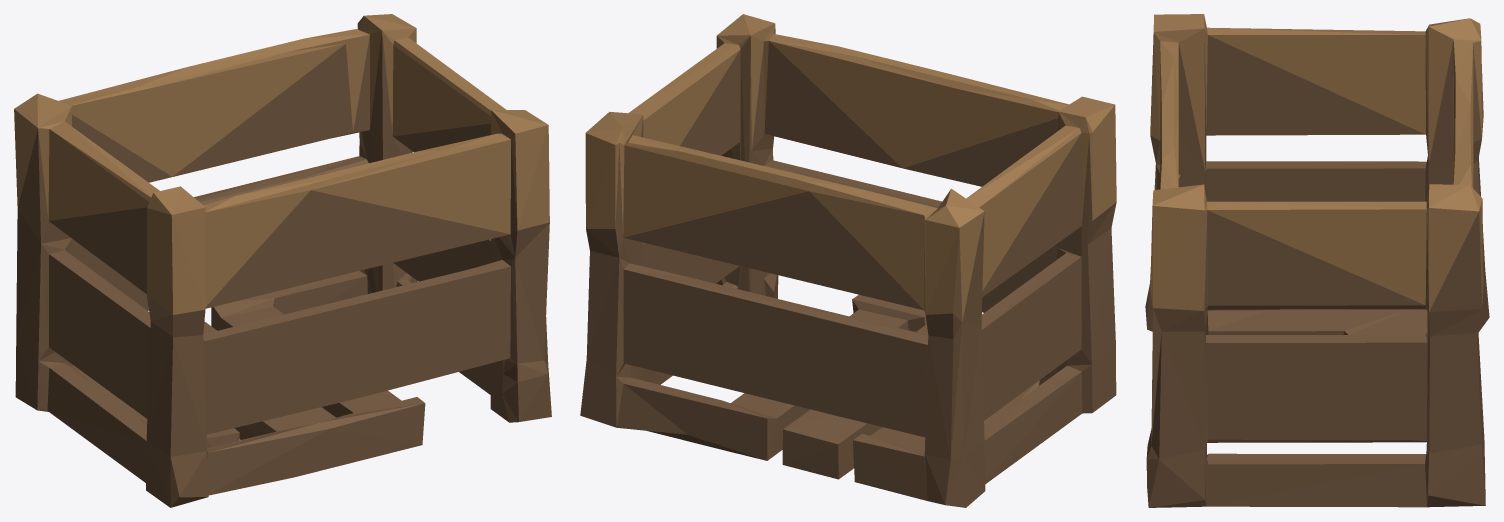
File: crate.glb
3 views of the same model, side by side, from view 1: azimuth 30°, elevation 25°; view 2: azimuth 150°, elevation 25°; view 3: azimuth 270°, elevation 25° (orthographic). The views are drawn at different scales.
Parts seen in each view (by area): view 1: crate; view 2: crate; view 3: crate.
Boxes of the visible parts, bbox=[...] form: crate: bbox=[14, 14, 551, 507]; crate: bbox=[580, 14, 1116, 507]; crate: bbox=[1145, 14, 1489, 507].
Bounding box in the file's own units: 0.6 × 0.45 × 0.45.
